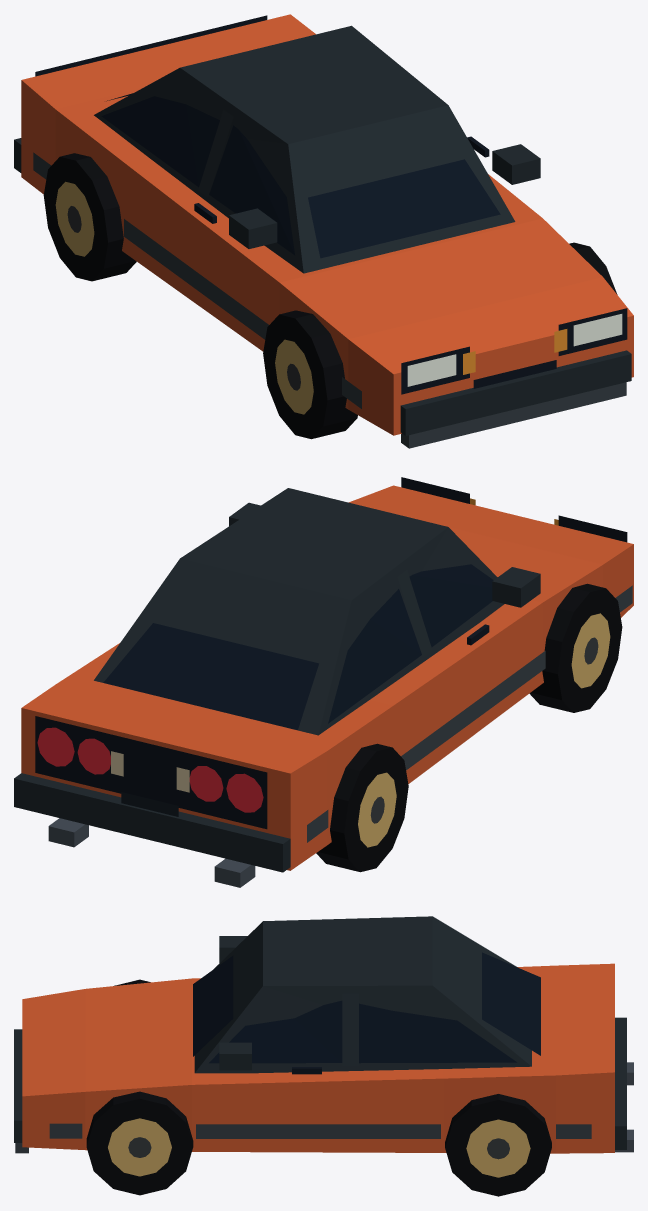
File: hibana-rs-low-poly.obj
3 views of the same model, one above another, from view 1: azimuth 30°, elevation 25°; view 2: azimuth 150°, elevation 25°; view 3: azimuth 270°, elevation 25° (orthographic). The views are drawn at different scales.
Parts seen in each view (by area): view 1: hibana-body-shell, hibana-liftback-cabin, hibana-windshield, hibana-front-bumper, hibana-rear-side-window--1, hibana-front-side-window--1, hibana-front-wheel--1-cap-a, hibana-rear-wheel--1-cap-a, hibana-front-lip, hibana-front-wheel--1-tread, hibana-center-side-skirt--1, hibana-rear-wheel--1-tread (+11 smaller); view 2: hibana-body-shell, hibana-liftback-cabin, hibana-rear-window, hibana-rear-bumper, hibana-rear-garnish, hibana-rear-side-window--1, hibana-front-side-window--1, hibana-rear-wheel--1-cap-a, hibana-front-wheel--1-cap-a, hibana-center-side-skirt--1, hibana-front-wheel--1-tread, hibana-rear-wheel--1-tread (+13 smaller); view 3: hibana-body-shell, hibana-liftback-cabin, hibana-rear-side-window-1, hibana-rear-wheel-1-cap-b, hibana-front-wheel-1-cap-b, hibana-front-side-window-1, hibana-rear-window, hibana-center-side-skirt-1, hibana-windshield, hibana-front-wheel-1-hub, hibana-rear-wheel-1-hub, hibana-rear-bumper (+8 smaller).
Part boxes in pixels (box(x1,y1,x2,y2)): hibana-body-shell: box(21, 14, 633, 435); hibana-liftback-cabin: box(94, 25, 515, 273); hibana-windshield: box(308, 159, 500, 258); hibana-front-bumper: box(400, 350, 631, 435); hibana-rear-side-window--1: box(101, 96, 219, 187); hibana-front-side-window--1: box(209, 125, 294, 255); hibana-front-wheel--1-cap-a: box(263, 314, 327, 438); hibana-rear-wheel--1-cap-a: box(43, 157, 107, 281); hibana-front-lip: box(401, 382, 626, 448); hibana-front-wheel--1-tread: box(279, 310, 357, 438); hibana-center-side-skirt--1: box(124, 219, 268, 339); hibana-rear-wheel--1-tread: box(60, 153, 136, 281); hibana-body-shell: box(21, 485, 633, 870); hibana-liftback-cabin: box(94, 488, 504, 735); hibana-rear-window: box(103, 623, 318, 730); hibana-rear-bumper: box(14, 773, 290, 872); hibana-rear-garnish: box(35, 716, 267, 829); hibana-rear-side-window--1: box(328, 589, 421, 723); hibana-front-side-window--1: box(409, 564, 493, 647); hibana-rear-wheel--1-cap-a: box(344, 747, 408, 871); hibana-front-wheel--1-cap-a: box(558, 588, 622, 712); hibana-center-side-skirt--1: box(401, 650, 545, 770); hibana-front-wheel--1-tread: box(529, 583, 605, 712); hibana-rear-wheel--1-tread: box(316, 743, 392, 871); hibana-body-shell: box(22, 963, 614, 1153); hibana-liftback-cabin: box(194, 916, 531, 1073); hibana-rear-side-window-1: box(359, 1003, 516, 1063); hibana-rear-wheel-1-cap-b: box(445, 1100, 551, 1196); hibana-front-wheel-1-cap-b: box(86, 1098, 193, 1195); hibana-front-side-window-1: box(209, 1000, 342, 1063); hibana-rear-window: box(482, 952, 540, 1055); hibana-center-side-skirt-1: box(196, 1124, 440, 1138); hibana-windshield: box(193, 955, 233, 1056); hibana-front-wheel-1-hub: box(108, 1118, 171, 1176); hibana-rear-wheel-1-hub: box(466, 1119, 530, 1177); hibana-rear-bumper: box(615, 1017, 626, 1149).
Bounding box in the file's own units: 2.12 × 1.49 × 4.53.
